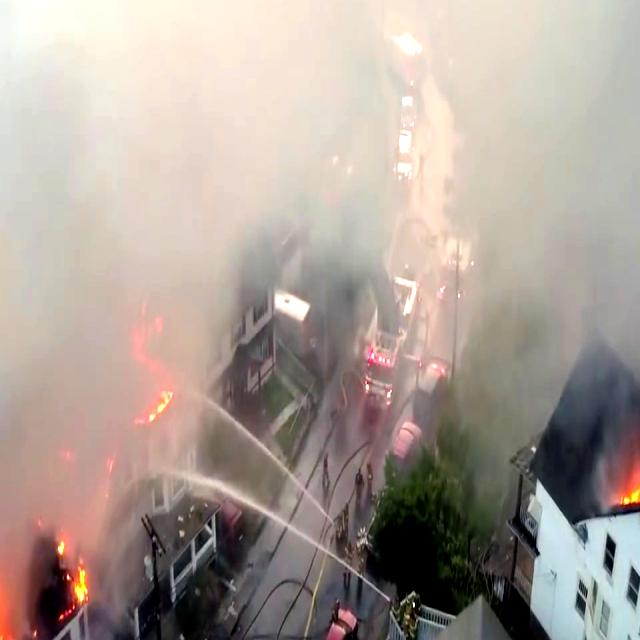smoke: (0, 0, 640, 204)
